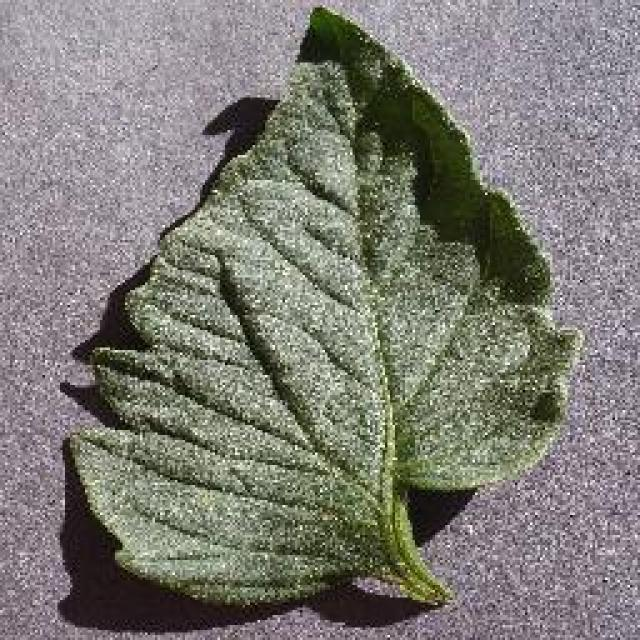Tomato_Healthy: (38, 13, 596, 609)
